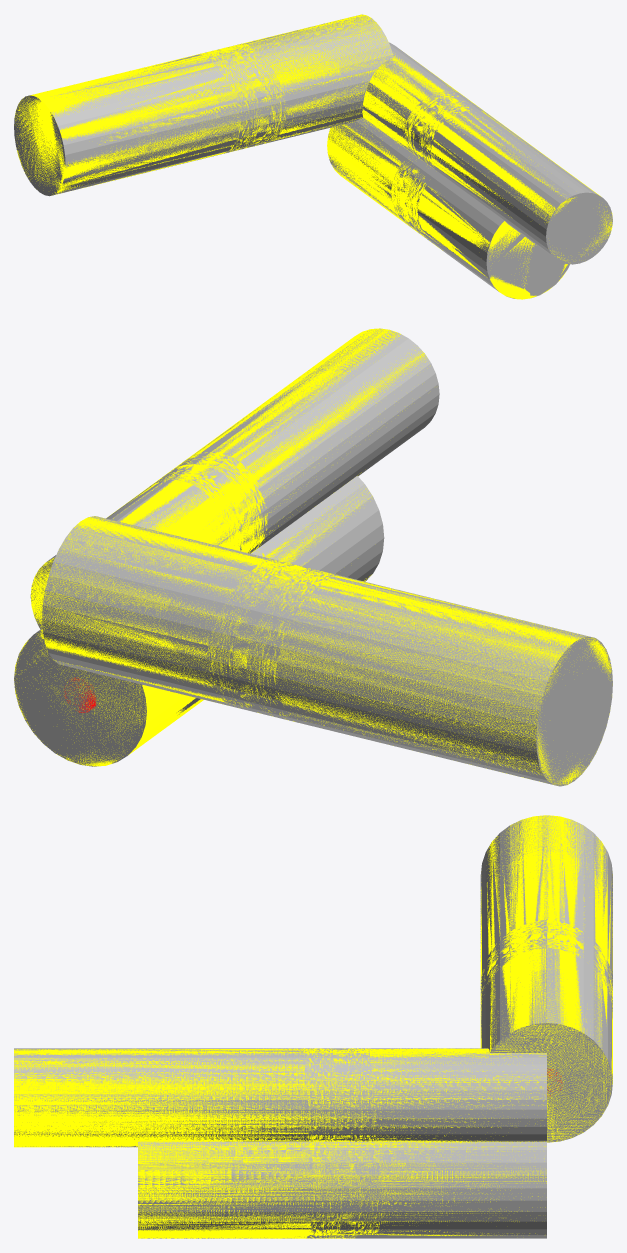
Rendered from LOT129_d04e1bbf.glb.
3 views of the same model, one above another, from view 1: azimuth 30°, elevation 25°; view 2: azimuth 150°, elevation 25°; view 3: azimuth 270°, elevation 25° (orthographic). The views are drawn at different scales.
Visible parts, largest first — view 1: 1200x1.219r_Obj, Cylinder.002, Cylinder.004, Cylinder; view 2: 1200x1.219r_Obj, Cylinder.002, Cylinder.004, Cylinder; view 3: 1200x1.219r_Obj, Cylinder.004, Cylinder.002, Cylinder.
Boxes of the visible parts, x1,y1,x2,y2 form: 1200x1.219r_Obj: (14,14,612,298); Cylinder.002: (15,14,392,194); Cylinder.004: (362,52,612,262); Cylinder: (327,118,567,299); 1200x1.219r_Obj: (14,328,612,786); Cylinder.002: (42,516,611,785); Cylinder.004: (30,328,427,632); Cylinder: (14,488,372,766); 1200x1.219r_Obj: (14,815,612,1238); Cylinder.004: (14,1048,546,1147); Cylinder.002: (480,815,612,1142); Cylinder: (138,1141,546,1238).
Bounding box in the file's own units: 1.69 × 0.7 × 1.81.
